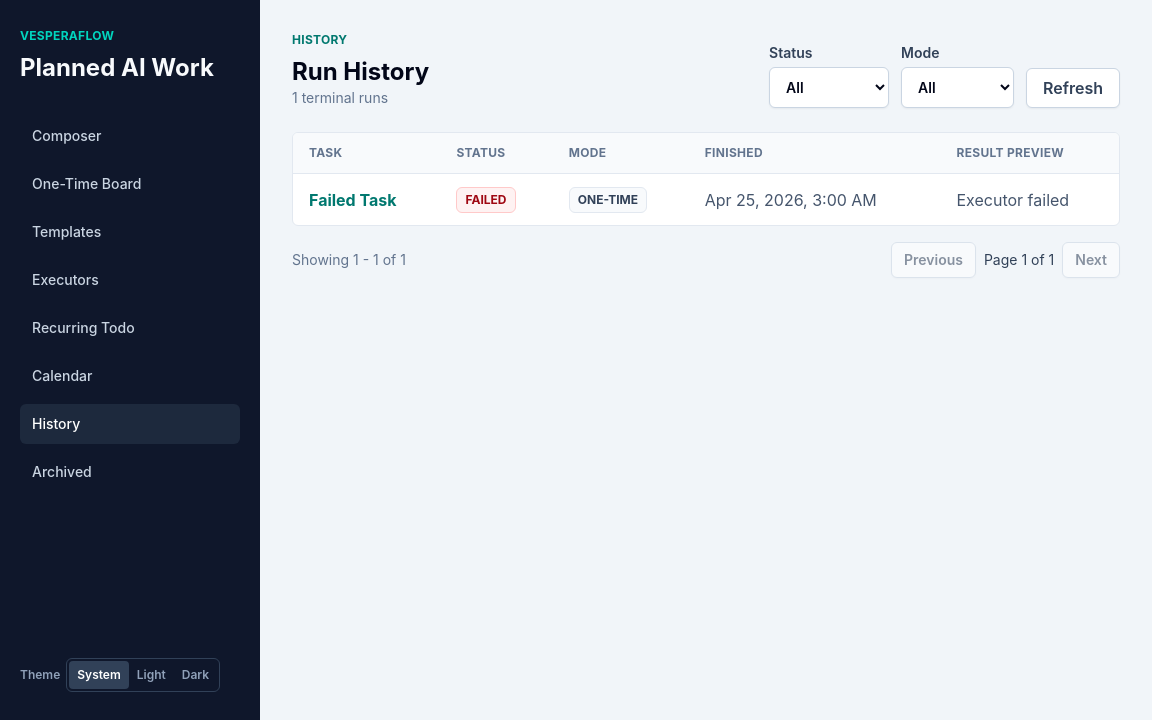
Test: App › opens one-time history items in run detail
Click the button "Failed Task" at (353, 200), box [309,188,396,212]
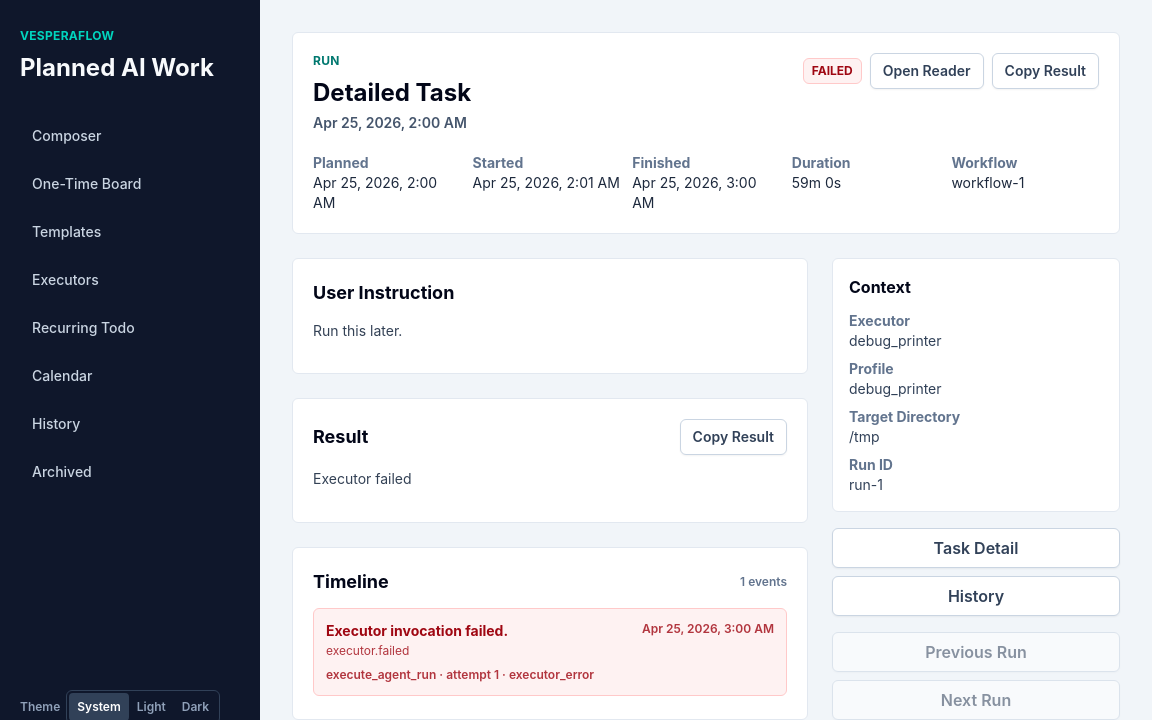
Expected: the text "Run" is shown, [313,53,340,68]
Expected: the text "run-1" is shown, [849,476,883,493]
Expected: the text "Executor invocation failed." is shown, [326,620,508,640]
